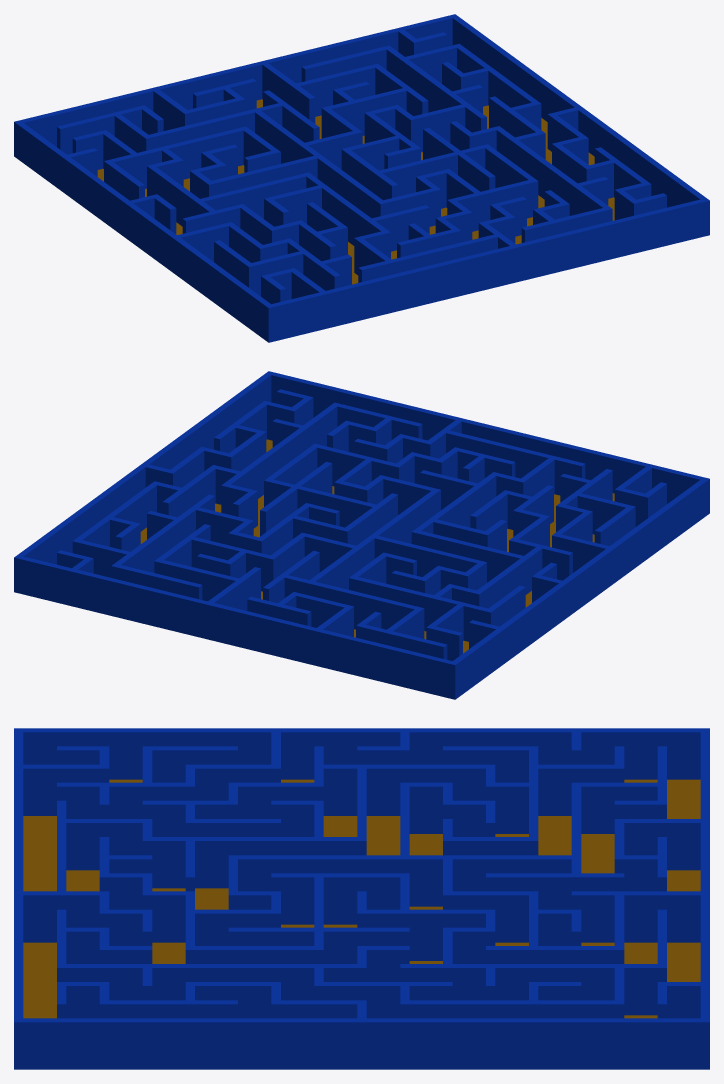
Rendered from Level46Graund.FBX.
3 views of the same model, one above another, from view 1: azimuth 30°, elevation 25°; view 2: azimuth 150°, elevation 25°; view 3: azimuth 270°, elevation 25° (orthographic). The views are drawn at different scales.
Visible parts, largest first — view 1: Labyrinth003; view 2: Labyrinth003; view 3: Labyrinth003.
Boxes of the visible parts, x1=… form: Labyrinth003: x1=14, y1=14, x2=709, y2=342; Labyrinth003: x1=14, y1=371, x2=709, y2=699; Labyrinth003: x1=14, y1=728, x2=709, y2=1069.
Size of the model in its own units: 373 by 28 by 373.
